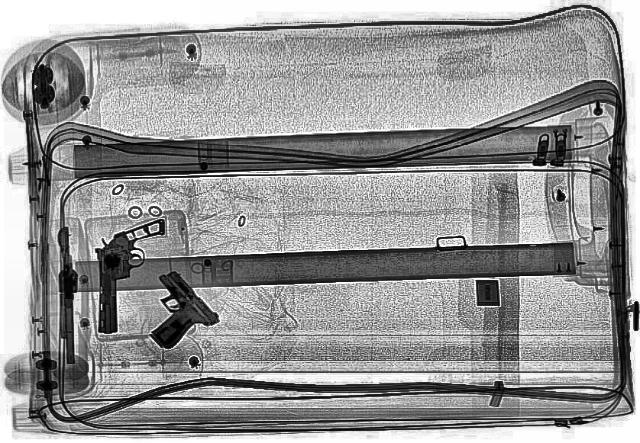Gun: (114, 270, 224, 350), (94, 220, 168, 330), (54, 226, 80, 370)
